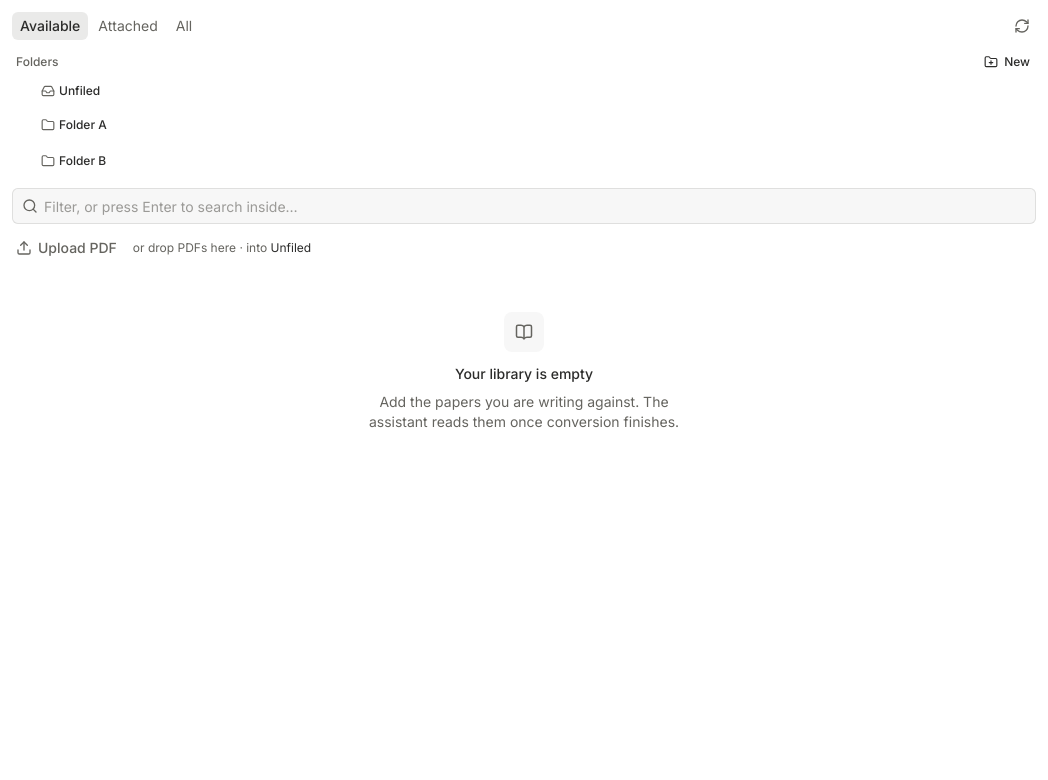
it: LibraryPanel › does not show an old folder error over a newer successful selection
Click the list item "Folder A" at x=74, y=124, box [41,117,107,132]
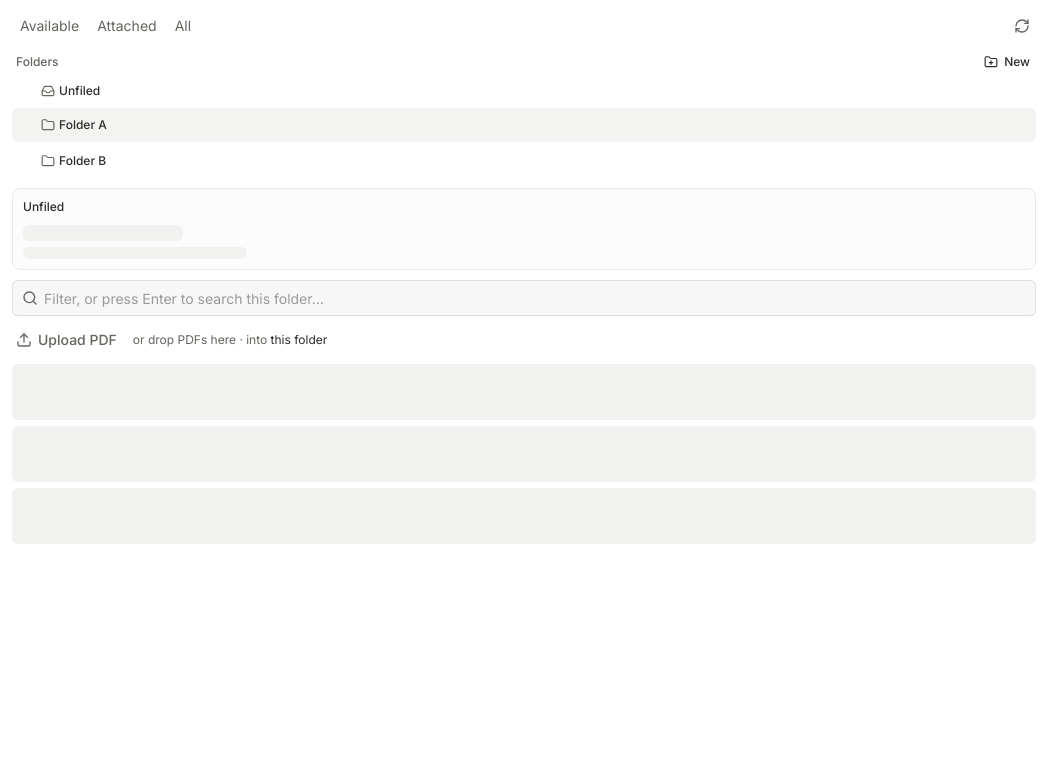
Click the list item "Folder B" at x=74, y=160, box [41,153,106,168]
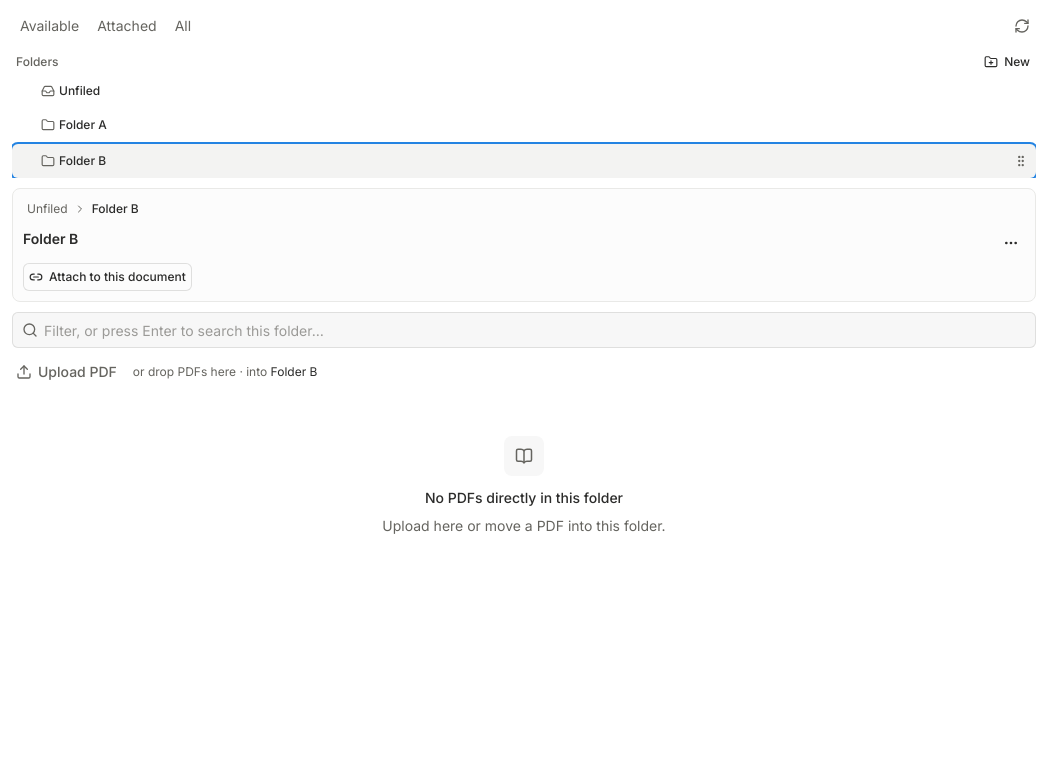
Expected: the heading "Folder B" is shown, [23,230,78,247]
